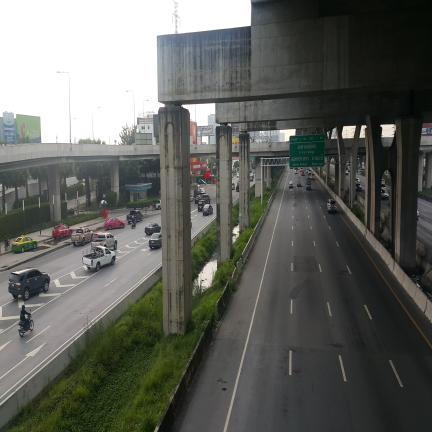car: (8, 268, 50, 301), (148, 233, 162, 249), (145, 222, 161, 235), (327, 199, 337, 213), (202, 204, 213, 215), (201, 194, 211, 204), (197, 200, 205, 212), (381, 189, 389, 200), (355, 183, 362, 191), (297, 176, 302, 187), (195, 195, 201, 204), (199, 188, 206, 195), (198, 179, 206, 184), (289, 181, 293, 188)
human: (21, 305, 29, 325), (132, 215, 136, 227), (133, 215, 136, 222)
motorbike: (18, 314, 34, 337), (131, 220, 136, 229)
pickup: (82, 246, 116, 271), (91, 232, 117, 250), (71, 228, 93, 246), (126, 209, 143, 224)
taxi: (10, 235, 36, 251), (52, 224, 73, 239)
truck: (306, 177, 311, 190), (297, 176, 302, 187)
